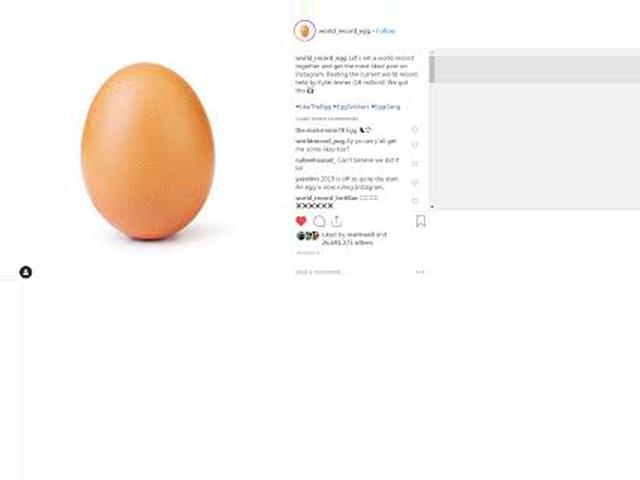egg: (81, 64, 214, 238)
